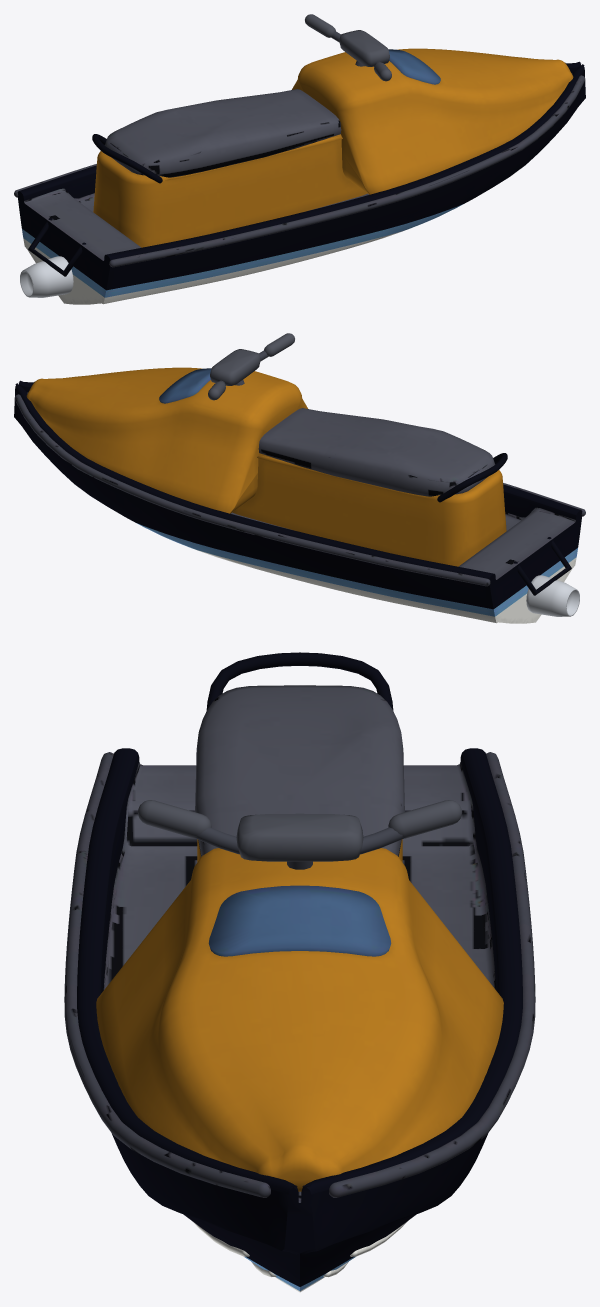
The model's file is sea-doo-gtx-limited-325-2025.glb.
3 views of the same model, one above another, from view 1: azimuth 30°, elevation 25°; view 2: azimuth 150°, elevation 25°; view 3: azimuth 270°, elevation 25° (orthographic). The views are drawn at different scales.
Parts seen in each view (by area): view 1: jet-ski_body, jet-ski_handlebar, jet-ski_jet_nozzle; view 2: jet-ski_body, jet-ski_handlebar, jet-ski_jet_nozzle; view 3: jet-ski_body, jet-ski_handlebar.
Part boxes in pixels (box(x1,y1,x2,y2)): jet-ski_body: box(14, 48, 585, 304); jet-ski_handlebar: box(305, 14, 391, 81); jet-ski_jet_nozzle: box(20, 256, 73, 297); jet-ski_body: box(14, 367, 585, 623); jet-ski_handlebar: box(208, 333, 294, 400); jet-ski_jet_nozzle: box(526, 575, 579, 616); jet-ski_body: box(64, 652, 535, 1292); jet-ski_handlebar: box(138, 800, 461, 869).
Size of the model in its own units: 3.58 by 1.21 by 1.32.
4 materials, 1 textured.
